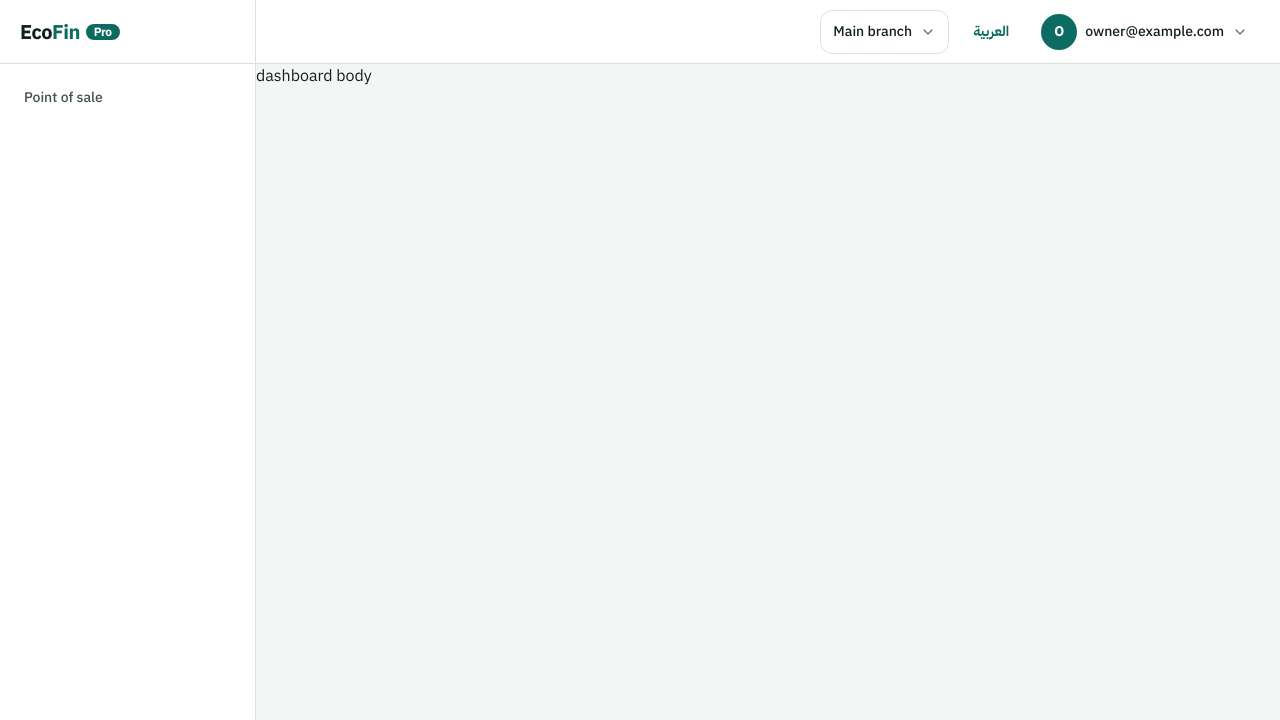
branch switcher › lists active branches from the branch endpoint and changes the selection
Note: The main branch is the fallback until the user chooses.
Click the button with aria-label "Branch: Main branch" at (885, 32), box x1=820 y1=10 x2=949 y2=54
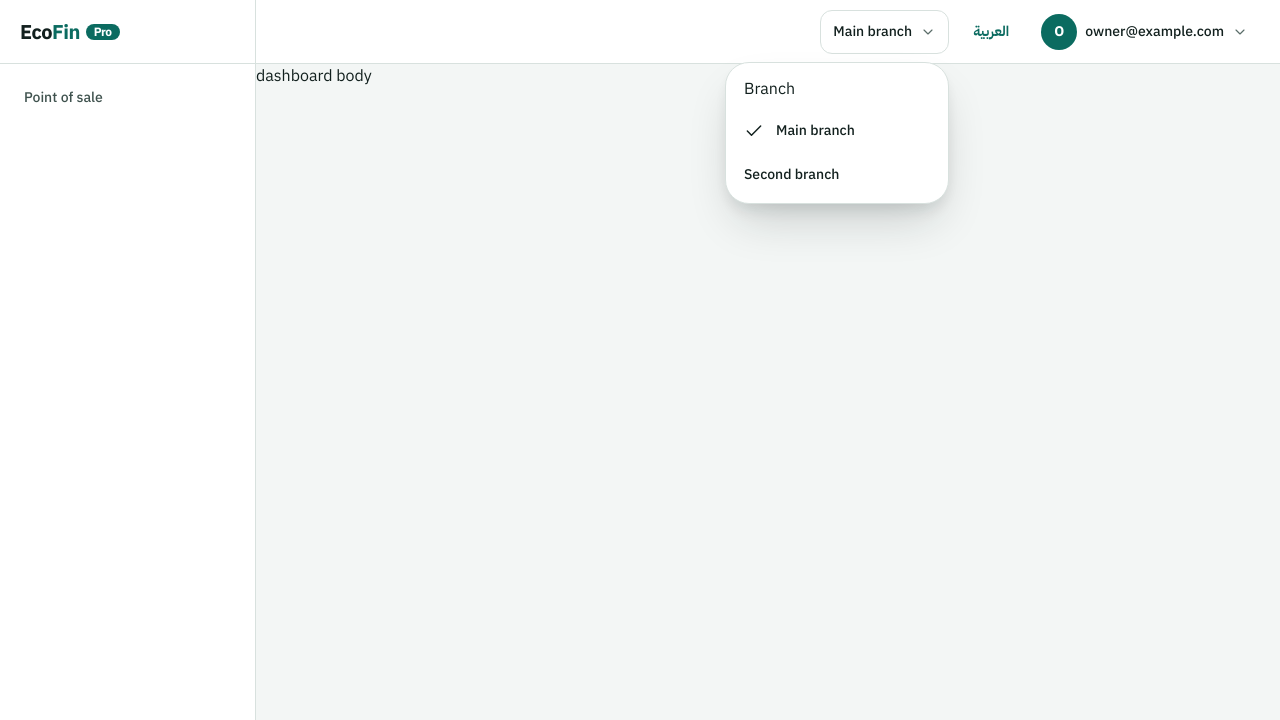
Now the menu item "Main branch" is shown, box x1=744 y1=120 x2=855 y2=141
Click the menu item "Second branch" at (792, 174), box x1=744 y1=164 x2=839 y2=185
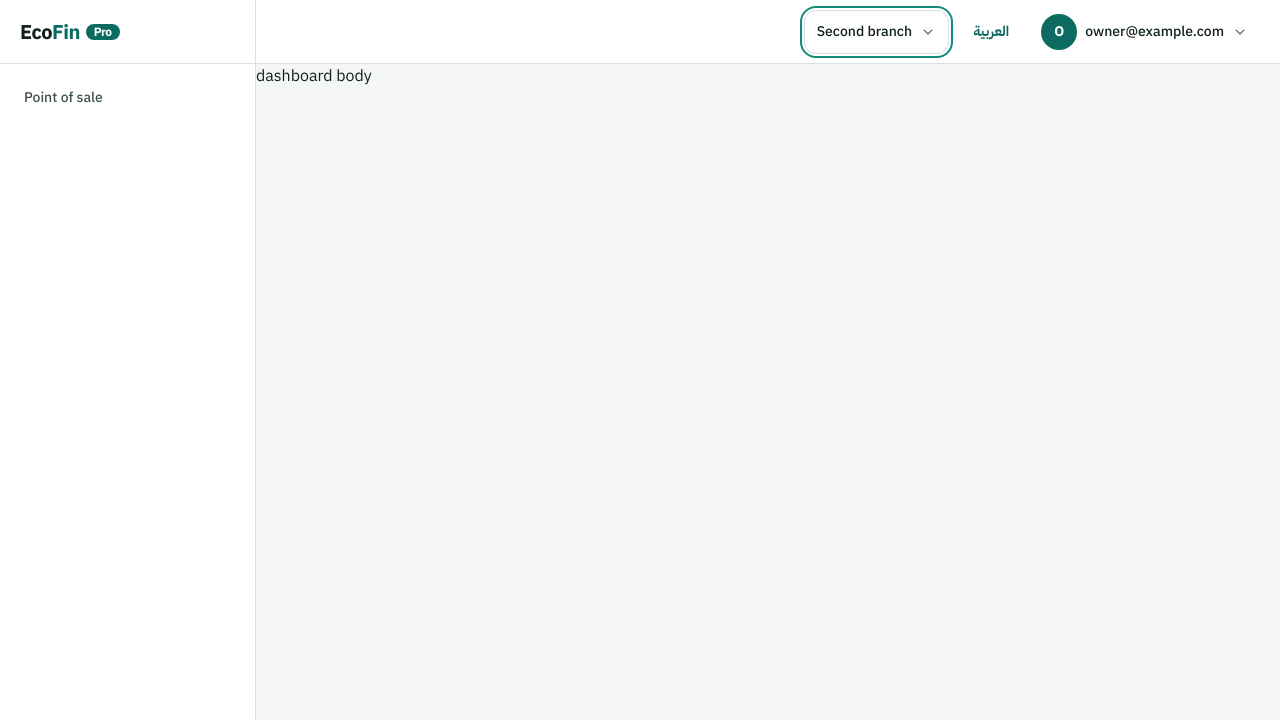
Now the button with aria-label "Branch: Second branch" is shown, box x1=804 y1=10 x2=949 y2=54
